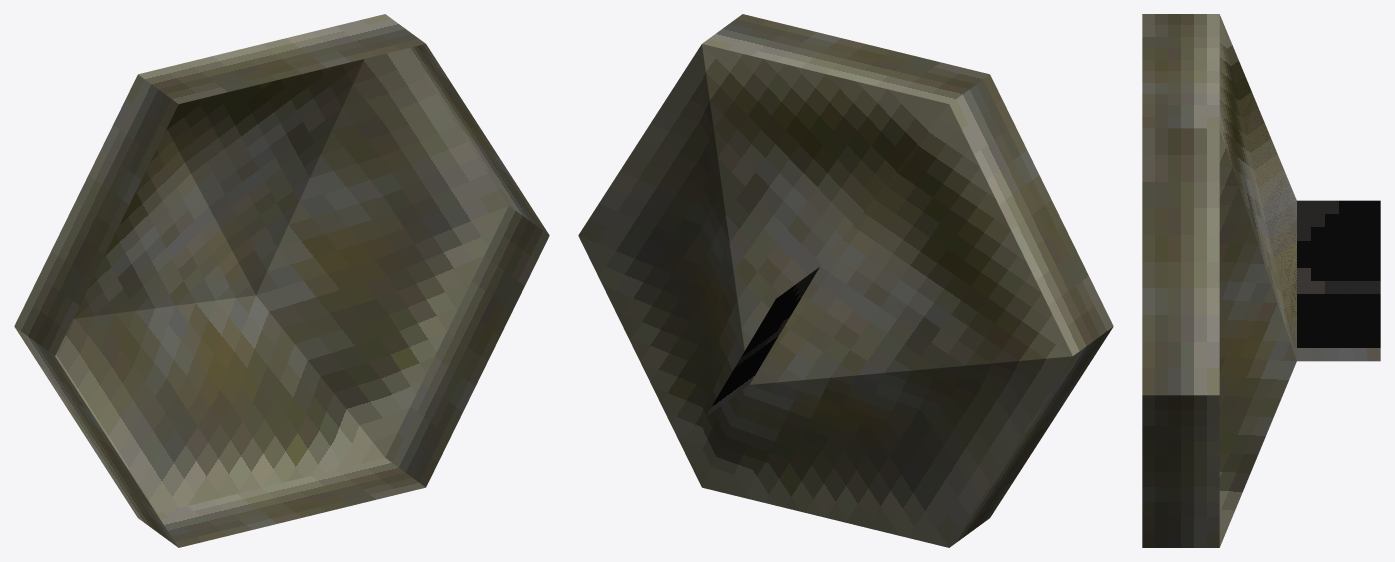
3 views of the same model, side by side, from view 1: azimuth 30°, elevation 25°; view 2: azimuth 150°, elevation 25°; view 3: azimuth 270°, elevation 25° (orthographic). The views are drawn at different scales.
Parts seen in each view (by area): view 1: prim040-trashcan; view 2: prim040-trashcan; view 3: prim040-trashcan.
Part boxes in pixels (<box>): prim040-trashcan: <box>14,14,549,547</box>; prim040-trashcan: <box>578,14,1113,547</box>; prim040-trashcan: <box>1142,14,1380,547</box>.
Bounding box in the file's own units: 84 × 72 × 37.
Materials: 2 (2 with a texture image).
